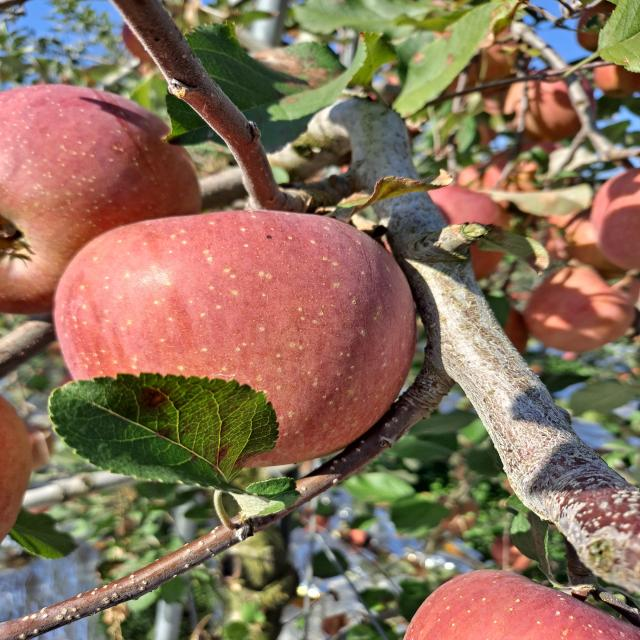fresh: (42, 205, 433, 479)
